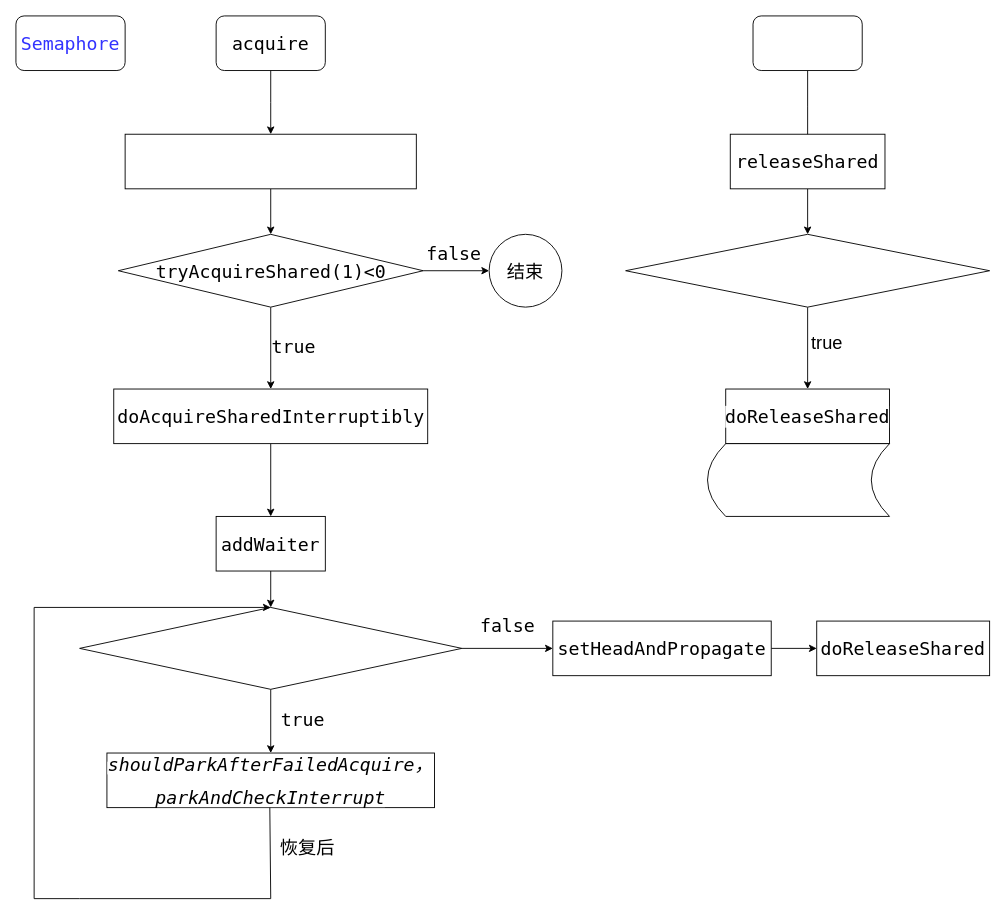
This 1006x922 diagram has some shape labels left out. The centre of each missing label's shape, as x and y in pixels:
acquireSharedInterruptibly: the point at 270,161
pred!=head ||tryAcquireShared(1)<0: the point at 270,648
release: the point at 807,43
tryReleaseShared()==true?: the point at 807,270
恢复对头的下一个节点的下一个节点的线程。: the point at 798,479
